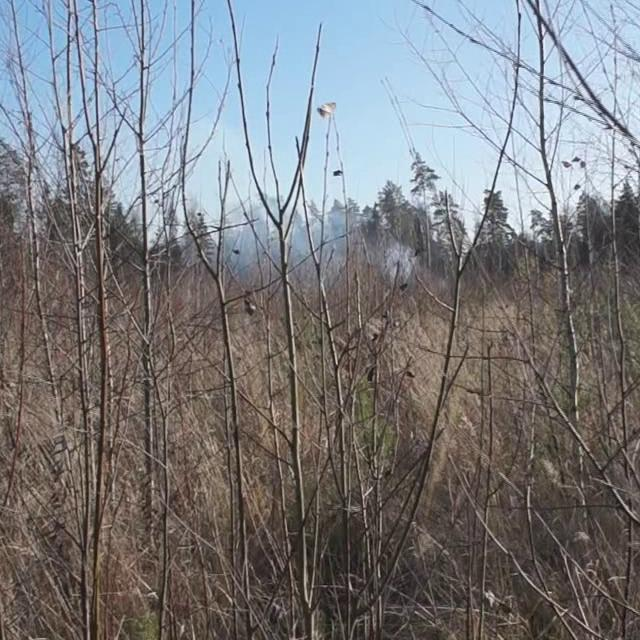Smoke: (200, 178, 429, 296)
